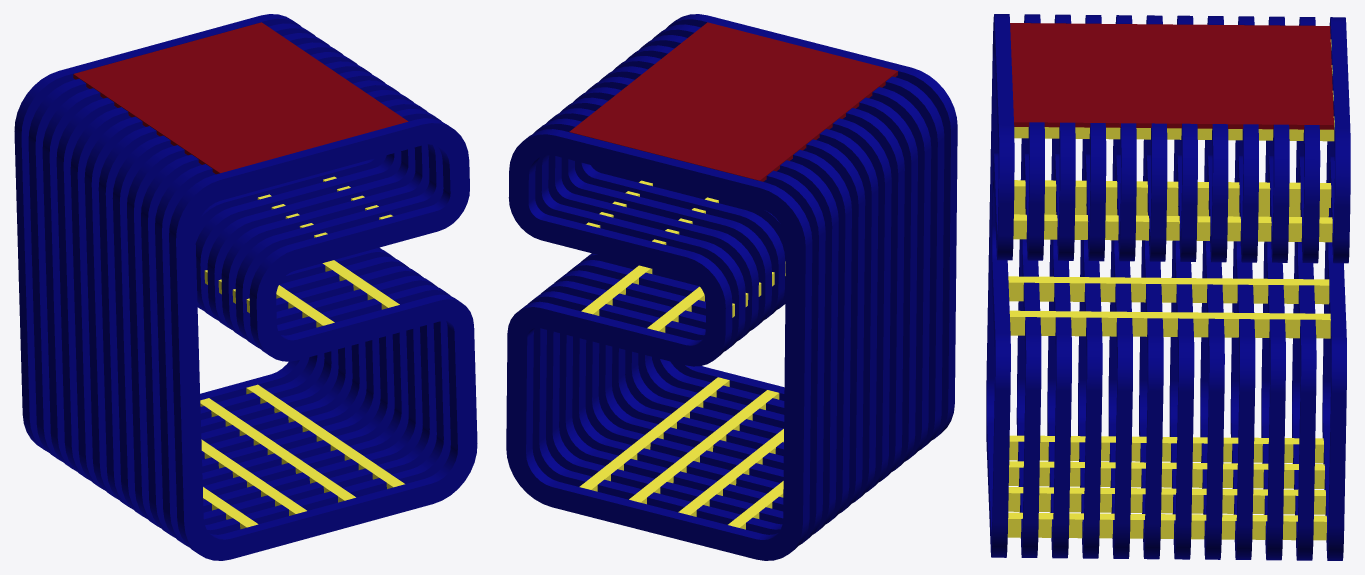
The model's file is cube_2_bl_foil.glb.
3 views of the same model, side by side, from view 1: azimuth 30°, elevation 25°; view 2: azimuth 150°, elevation 25°; view 3: azimuth 270°, elevation 25° (orthographic). The views are drawn at different scales.
Parts seen in each view (by area): view 1: DFSNS07-P1, DFSNS07-AYNA, DFSNS07-P2, DFSNS07-P011, DFSNS07-P012, DFSNS07-P013, DFSNS07-P014, DFSNS07-P015, DFSNS07-P021, DFSNS07-P016, DFSNS07-P017, DFSNS07-P018 (+7 smaller); view 2: DFSNS07-P021, DFSNS07-AYNA, DFSNS07-P019, DFSNS07-P018, DFSNS07-P017, DFSNS07-P016, DFSNS07-P015, DFSNS07-P014, DFSNS07-P1, DFSNS07-P013, DFSNS07-P012, DFSNS07-P011 (+7 smaller); view 3: DFSNS07-AYNA, DFSNS07-P1, DFSNS07-P021, DFSNS07-P018, DFSNS07-P011, DFSNS07-P014, DFSNS07-P016, DFSNS07-P015, DFSNS07-P017, DFSNS07-P012, DFSNS07-P2, DFSNS07-P013 (+11 smaller).
Boxes of the visible parts, x1,y1,x2,y2 form: DFSNS07-P1: [169, 118, 477, 560]; DFSNS07-AYNA: [73, 22, 408, 174]; DFSNS07-P2: [155, 109, 451, 547]; DFSNS07-P011: [141, 99, 437, 537]; DFSNS07-P012: [127, 90, 423, 527]; DFSNS07-P013: [112, 80, 408, 518]; DFSNS07-P014: [98, 71, 395, 509]; DFSNS07-P015: [84, 61, 380, 499]; DFSNS07-P021: [14, 14, 309, 452]; DFSNS07-P016: [70, 52, 366, 490]; DFSNS07-P017: [56, 42, 352, 480]; DFSNS07-P018: [42, 33, 338, 471]; DFSNS07-P021: [506, 129, 812, 560]; DFSNS07-AYNA: [569, 22, 897, 181]; DFSNS07-P019: [527, 118, 825, 544]; DFSNS07-P018: [541, 108, 838, 534]; DFSNS07-P017: [554, 97, 851, 523]; DFSNS07-P016: [567, 87, 865, 513]; DFSNS07-P015: [580, 76, 878, 502]; DFSNS07-P014: [598, 66, 891, 492]; DFSNS07-P1: [666, 14, 957, 439]; DFSNS07-P013: [612, 56, 904, 481]; DFSNS07-P012: [625, 45, 917, 471]; DFSNS07-P011: [638, 35, 931, 461]; DFSNS07-AYNA: [1010, 23, 1333, 129]; DFSNS07-P1: [986, 14, 1014, 557]; DFSNS07-P021: [1322, 17, 1350, 560]; DFSNS07-P018: [1261, 16, 1289, 560]; DFSNS07-P011: [1047, 14, 1075, 558]; DFSNS07-P014: [1139, 15, 1167, 559]; DFSNS07-P016: [1200, 16, 1228, 559]; DFSNS07-P015: [1169, 15, 1197, 559]; DFSNS07-P017: [1230, 16, 1258, 559]; DFSNS07-P012: [1078, 15, 1106, 558]; DFSNS07-P2: [1016, 14, 1044, 557]; DFSNS07-P013: [1108, 15, 1136, 558].
Bounding box in the file's own units: 0.4647 × 0.5633 × 0.4292.
